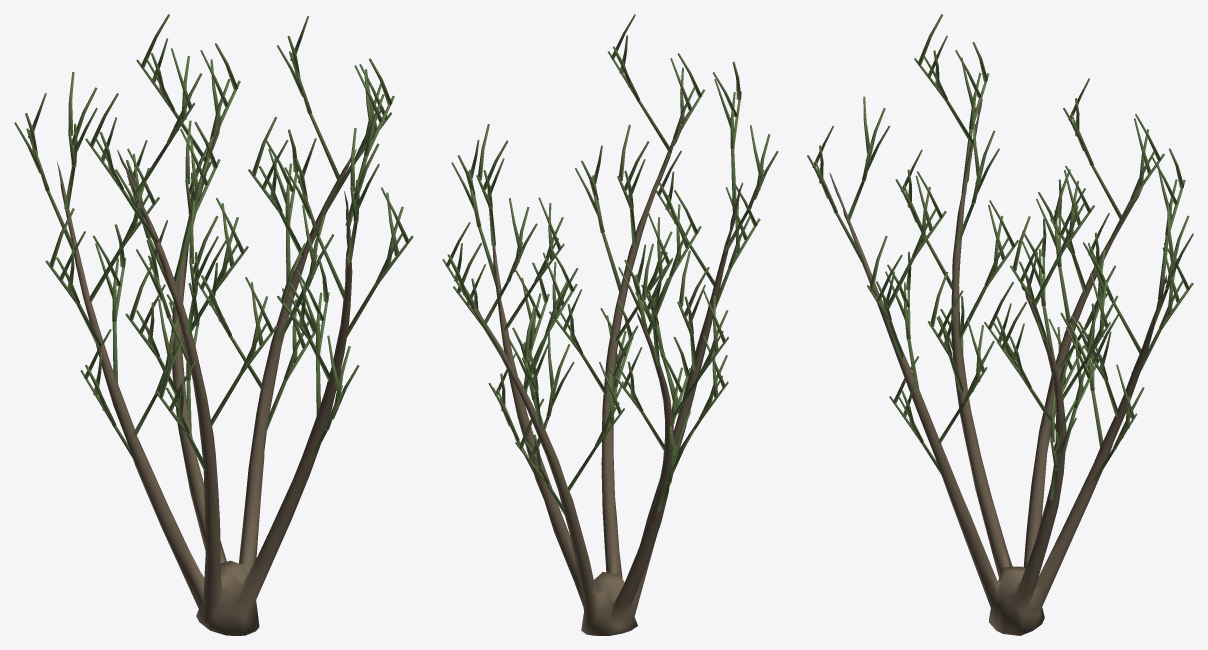
Rendered from Bruyere_0_Niveau0.fbx.
The picture shows the model from 3 angles, left to right: view 1: azimuth 30°, elevation 25°; view 2: azimuth 150°, elevation 25°; view 3: azimuth 270°, elevation 25°; orthographic projection. The views are drawn at different scales.
Visible parts, largest first — view 1: Bruyere_0_Niveau0_Jeu; view 2: Bruyere_0_Niveau0_Jeu; view 3: Bruyere_0_Niveau0_Jeu.
Part boxes in pixels (left/top/right/bottom): Bruyere_0_Niveau0_Jeu: left=14, top=14, right=413, bottom=635; Bruyere_0_Niveau0_Jeu: left=442, top=14, right=778, bottom=635; Bruyere_0_Niveau0_Jeu: left=807, top=14, right=1193, bottom=635.
Size of the model in its own units: 84.46 by 157 by 97.43.
